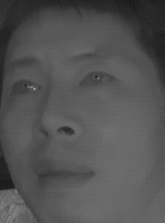eye: (75, 68, 116, 93), (5, 76, 44, 102)
mouth: (31, 155, 96, 191)
